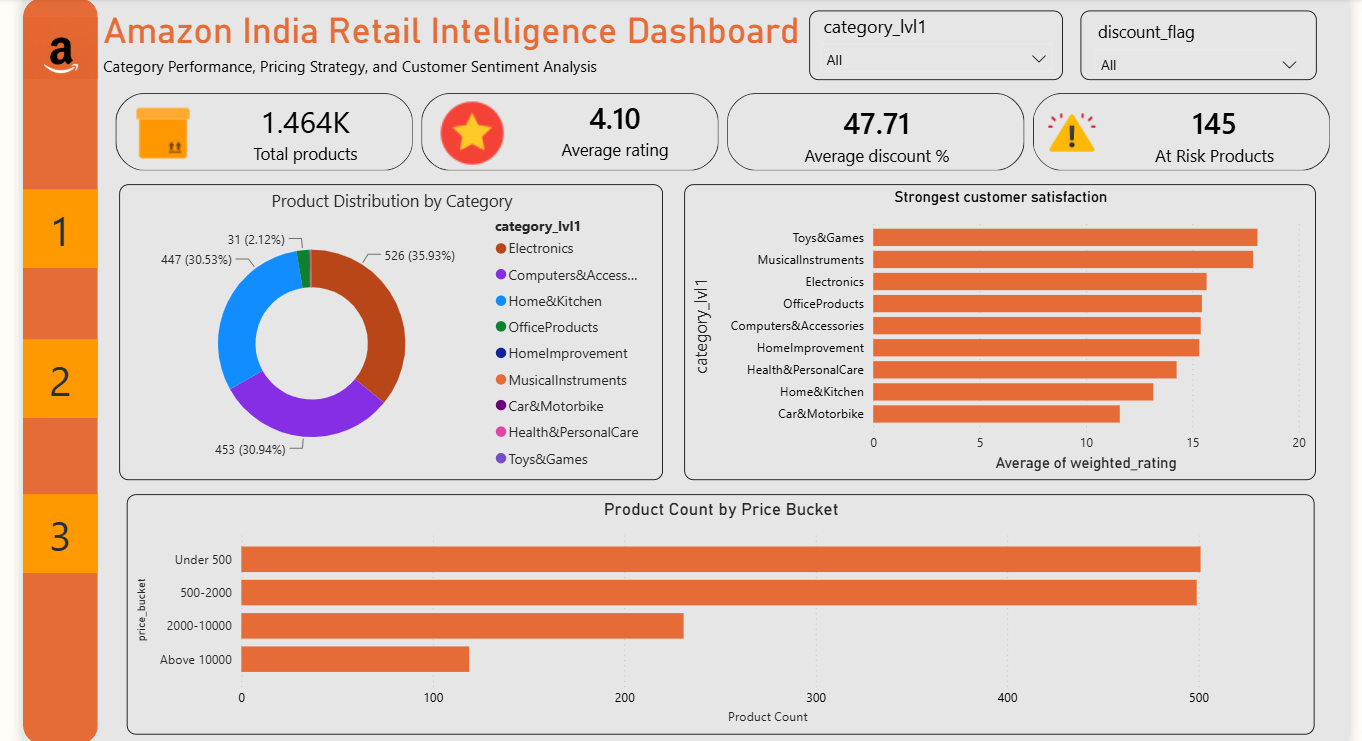

The page's visual inventory and layout, read from the dashboard file:
{"tool":"powerbi","page":{"name":" Executive Overview","canvas":[1280,720],"ordinal":0},"visuals":[{"type":"cardVisual","fields":{"Data":["CountNonNull(amazon cleaned.product_id)","Avg(amazon cleaned.rating)","Avg(amazon cleaned.discount_percentage)","amazon cleaned.At Risk Products"]},"box":[72.4,74.8,1207.6,109.8],"z":0},{"type":"donutChart","title":"Product Distribution by Category","fields":{"Category":["amazon cleaned.category_lvl1"],"Y":["CountNonNull(amazon cleaned.product_id)"]},"box":[92.9,179.8,524.8,285.9],"z":1000},{"type":"barChart","title":"Strongest customer satisfaction","fields":{"Y":["Avg(amazon cleaned.weighted_rating)"],"Category":["amazon cleaned.category_lvl1"]},"box":[638.2,179.8,609.3,285.9],"z":2000},{"type":"clusteredBarChart","title":"Product Count by Price Bucket","fields":{"Y":["amazon cleaned.Product Count"],"Category":["amazon cleaned.price_bucket"]},"box":[100.1,479,1146.1,231.6],"z":3000},{"type":"shape","box":[0,0,72.4,720.2],"z":4000},{"type":"textbox","title":"Amazon India Retail Intelligence Dashboard","box":[72.4,10.9,686.5,68.8],"z":5000},{"type":"slicer","fields":{"Values":["amazon cleaned.category_lvl1"]},"box":[758.9,12.1,244.9,67.6],"z":6000},{"type":"slicer","fields":{"Values":["amazon cleaned.discount_flag"]},"box":[1020.6,12.1,228,67.6],"z":7000},{"type":"image","box":[0,0,72.4,96.5],"z":8000},{"type":"shape","box":[0,184.6,72.4,76],"z":9000},{"type":"shape","box":[0,329.4,72.4,76],"z":10000},{"type":"shape","box":[0,479,72.4,76],"z":11000}]}

Visuals, with their boxes on the page's 1280x720 design canvas (x1, y1, x2, y2). These are canvas units, not pixel positions in the 1362x741 screenshot, which may show the page scaled, cropped or inside an application window:
cardVisual - CountNonNull(amazon cleaned.product_id) x Avg(amazon cleaned.rating): Rect(72, 75, 1280, 185)
"Product Distribution by Category" donutChart: Rect(93, 180, 618, 466)
"Strongest customer satisfaction" barChart: Rect(638, 180, 1248, 466)
"Product Count by Price Bucket" clusteredBarChart: Rect(100, 479, 1246, 711)
shape: Rect(0, 0, 72, 720)
"Amazon India Retail Intelligence Dashboard" textbox: Rect(72, 11, 759, 80)
slicer - amazon cleaned.category_lvl1: Rect(759, 12, 1004, 80)
slicer - amazon cleaned.discount_flag: Rect(1021, 12, 1249, 80)
image: Rect(0, 0, 72, 96)
shape: Rect(0, 185, 72, 261)
shape: Rect(0, 329, 72, 405)
shape: Rect(0, 479, 72, 555)
